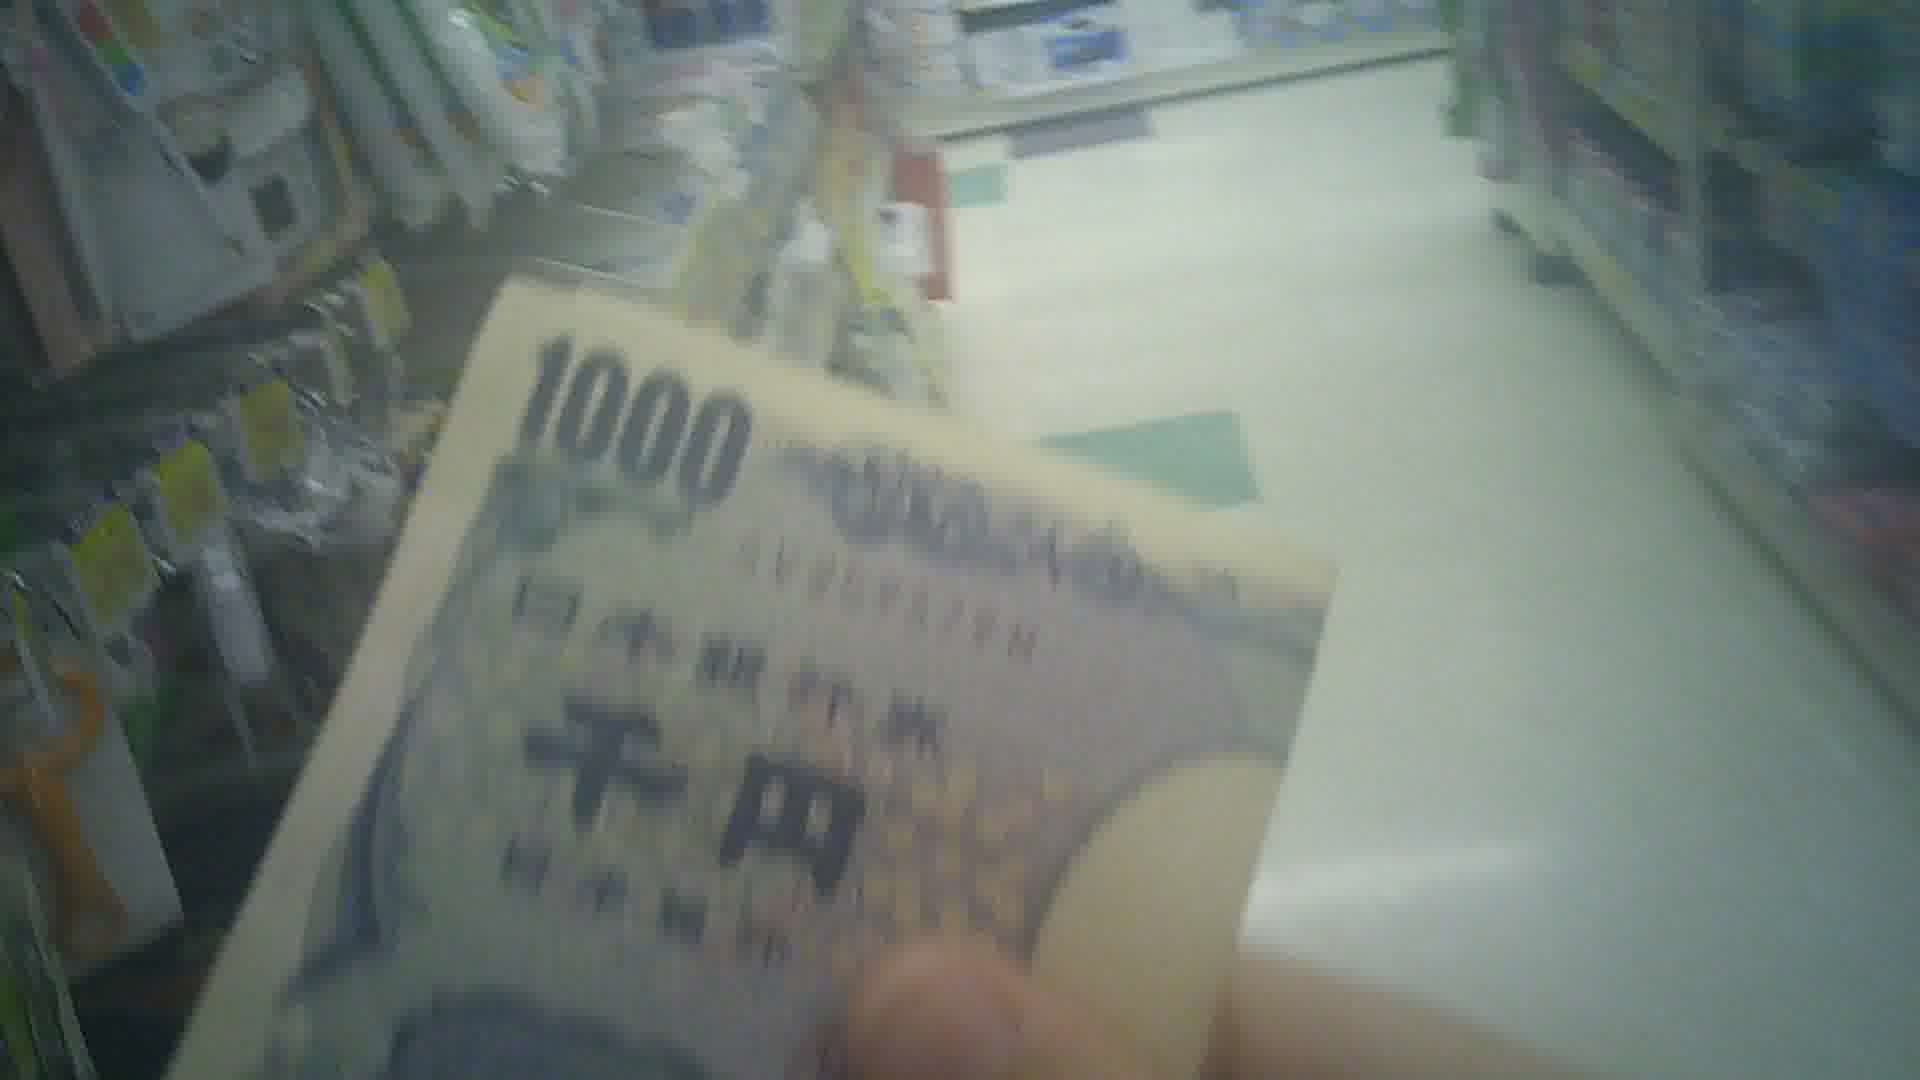1,000 Yen: (200, 256, 1282, 1079)
